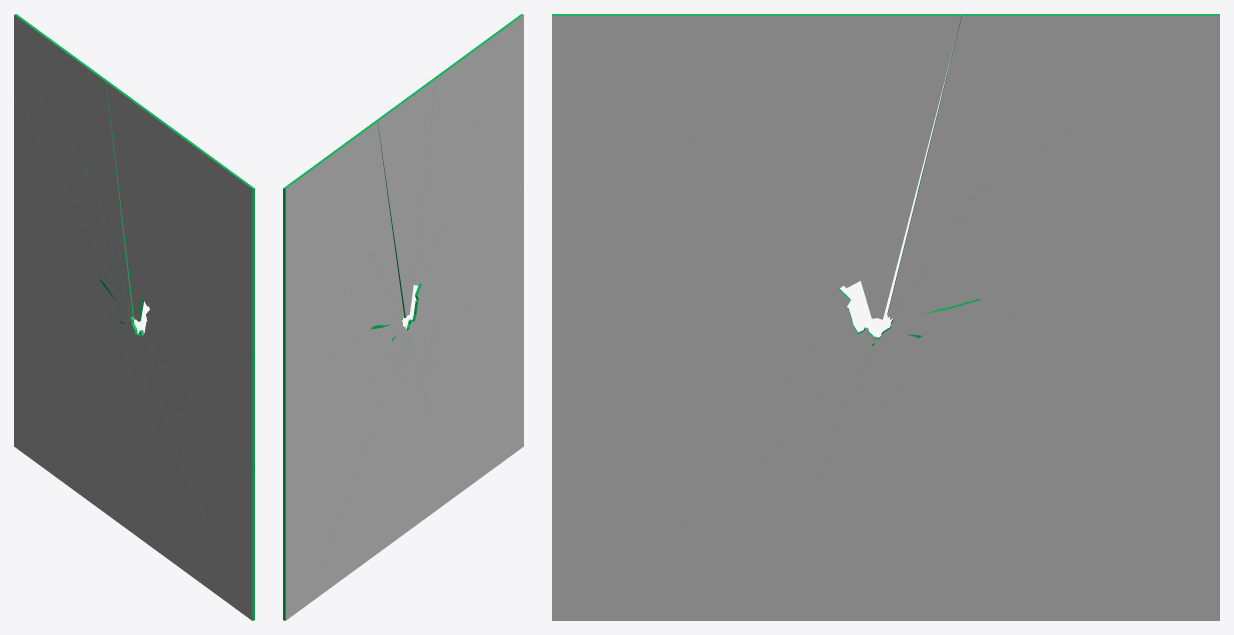
File: shatered galss.fbx
The picture shows the model from 3 angles, left to right: view 1: azimuth 30°, elevation 25°; view 2: azimuth 150°, elevation 25°; view 3: azimuth 270°, elevation 25°; orthographic projection. The views are drawn at different scales.
Size of the model in its own units: 0.0124 by 2 by 2.
